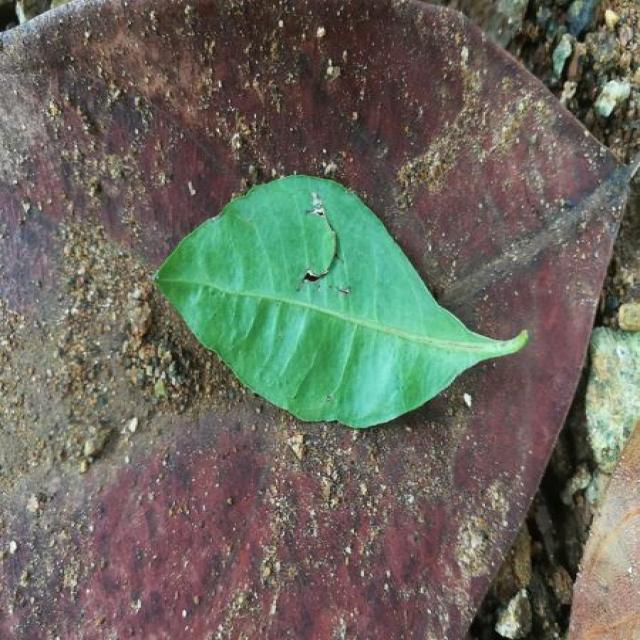henna: (155, 175, 528, 428)
